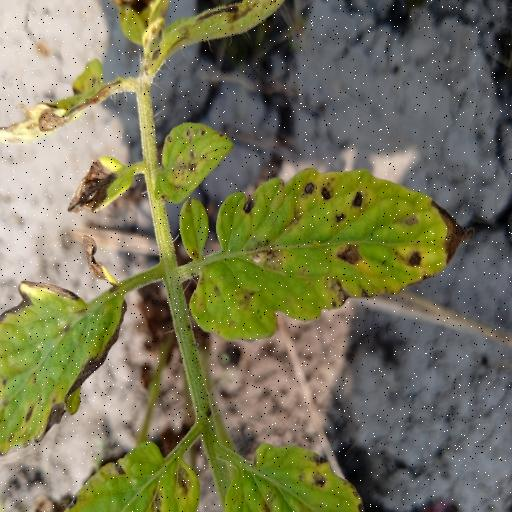Tomato_Brown_Spots: (174, 158, 467, 343), (0, 251, 129, 462)
